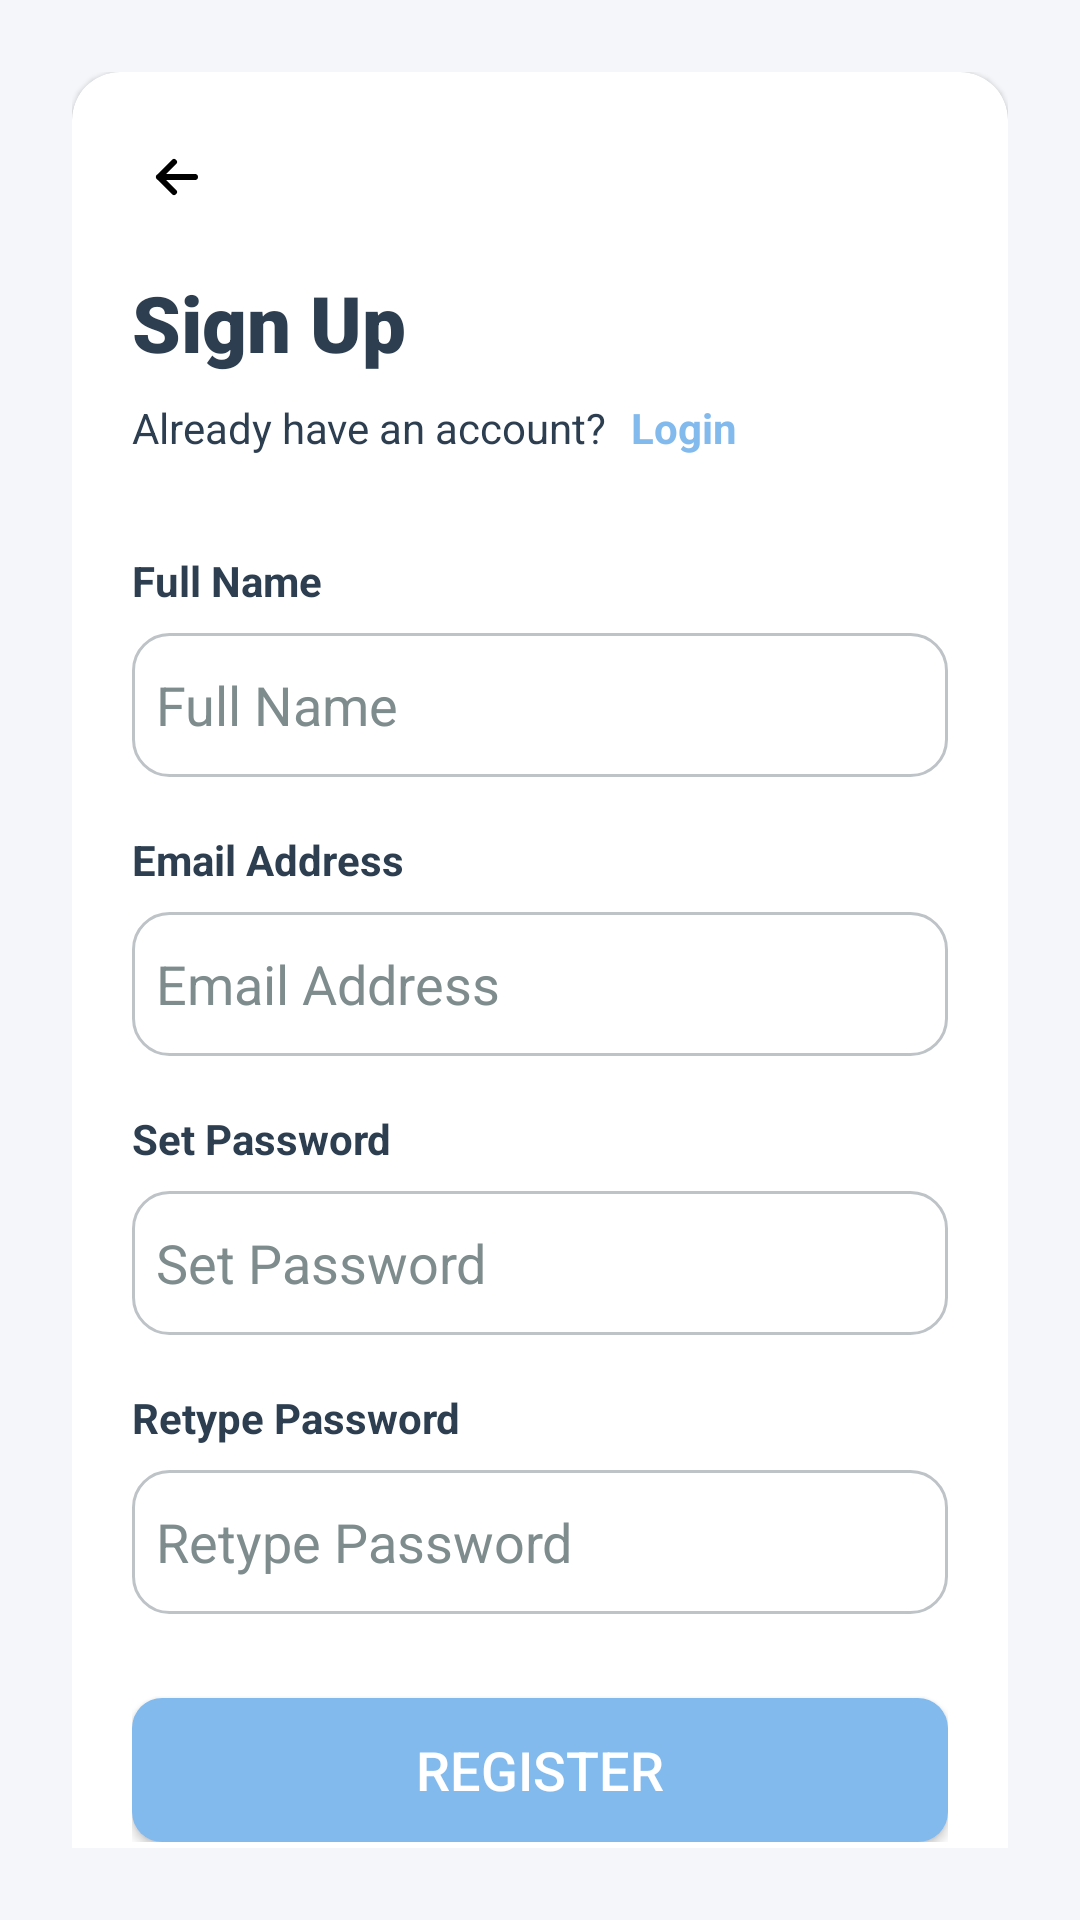

Locate icon controls on the screen. Image size 1080*1920, boxes as (x1, y1, x2, y2).
arrow left: (156, 159, 198, 195)
